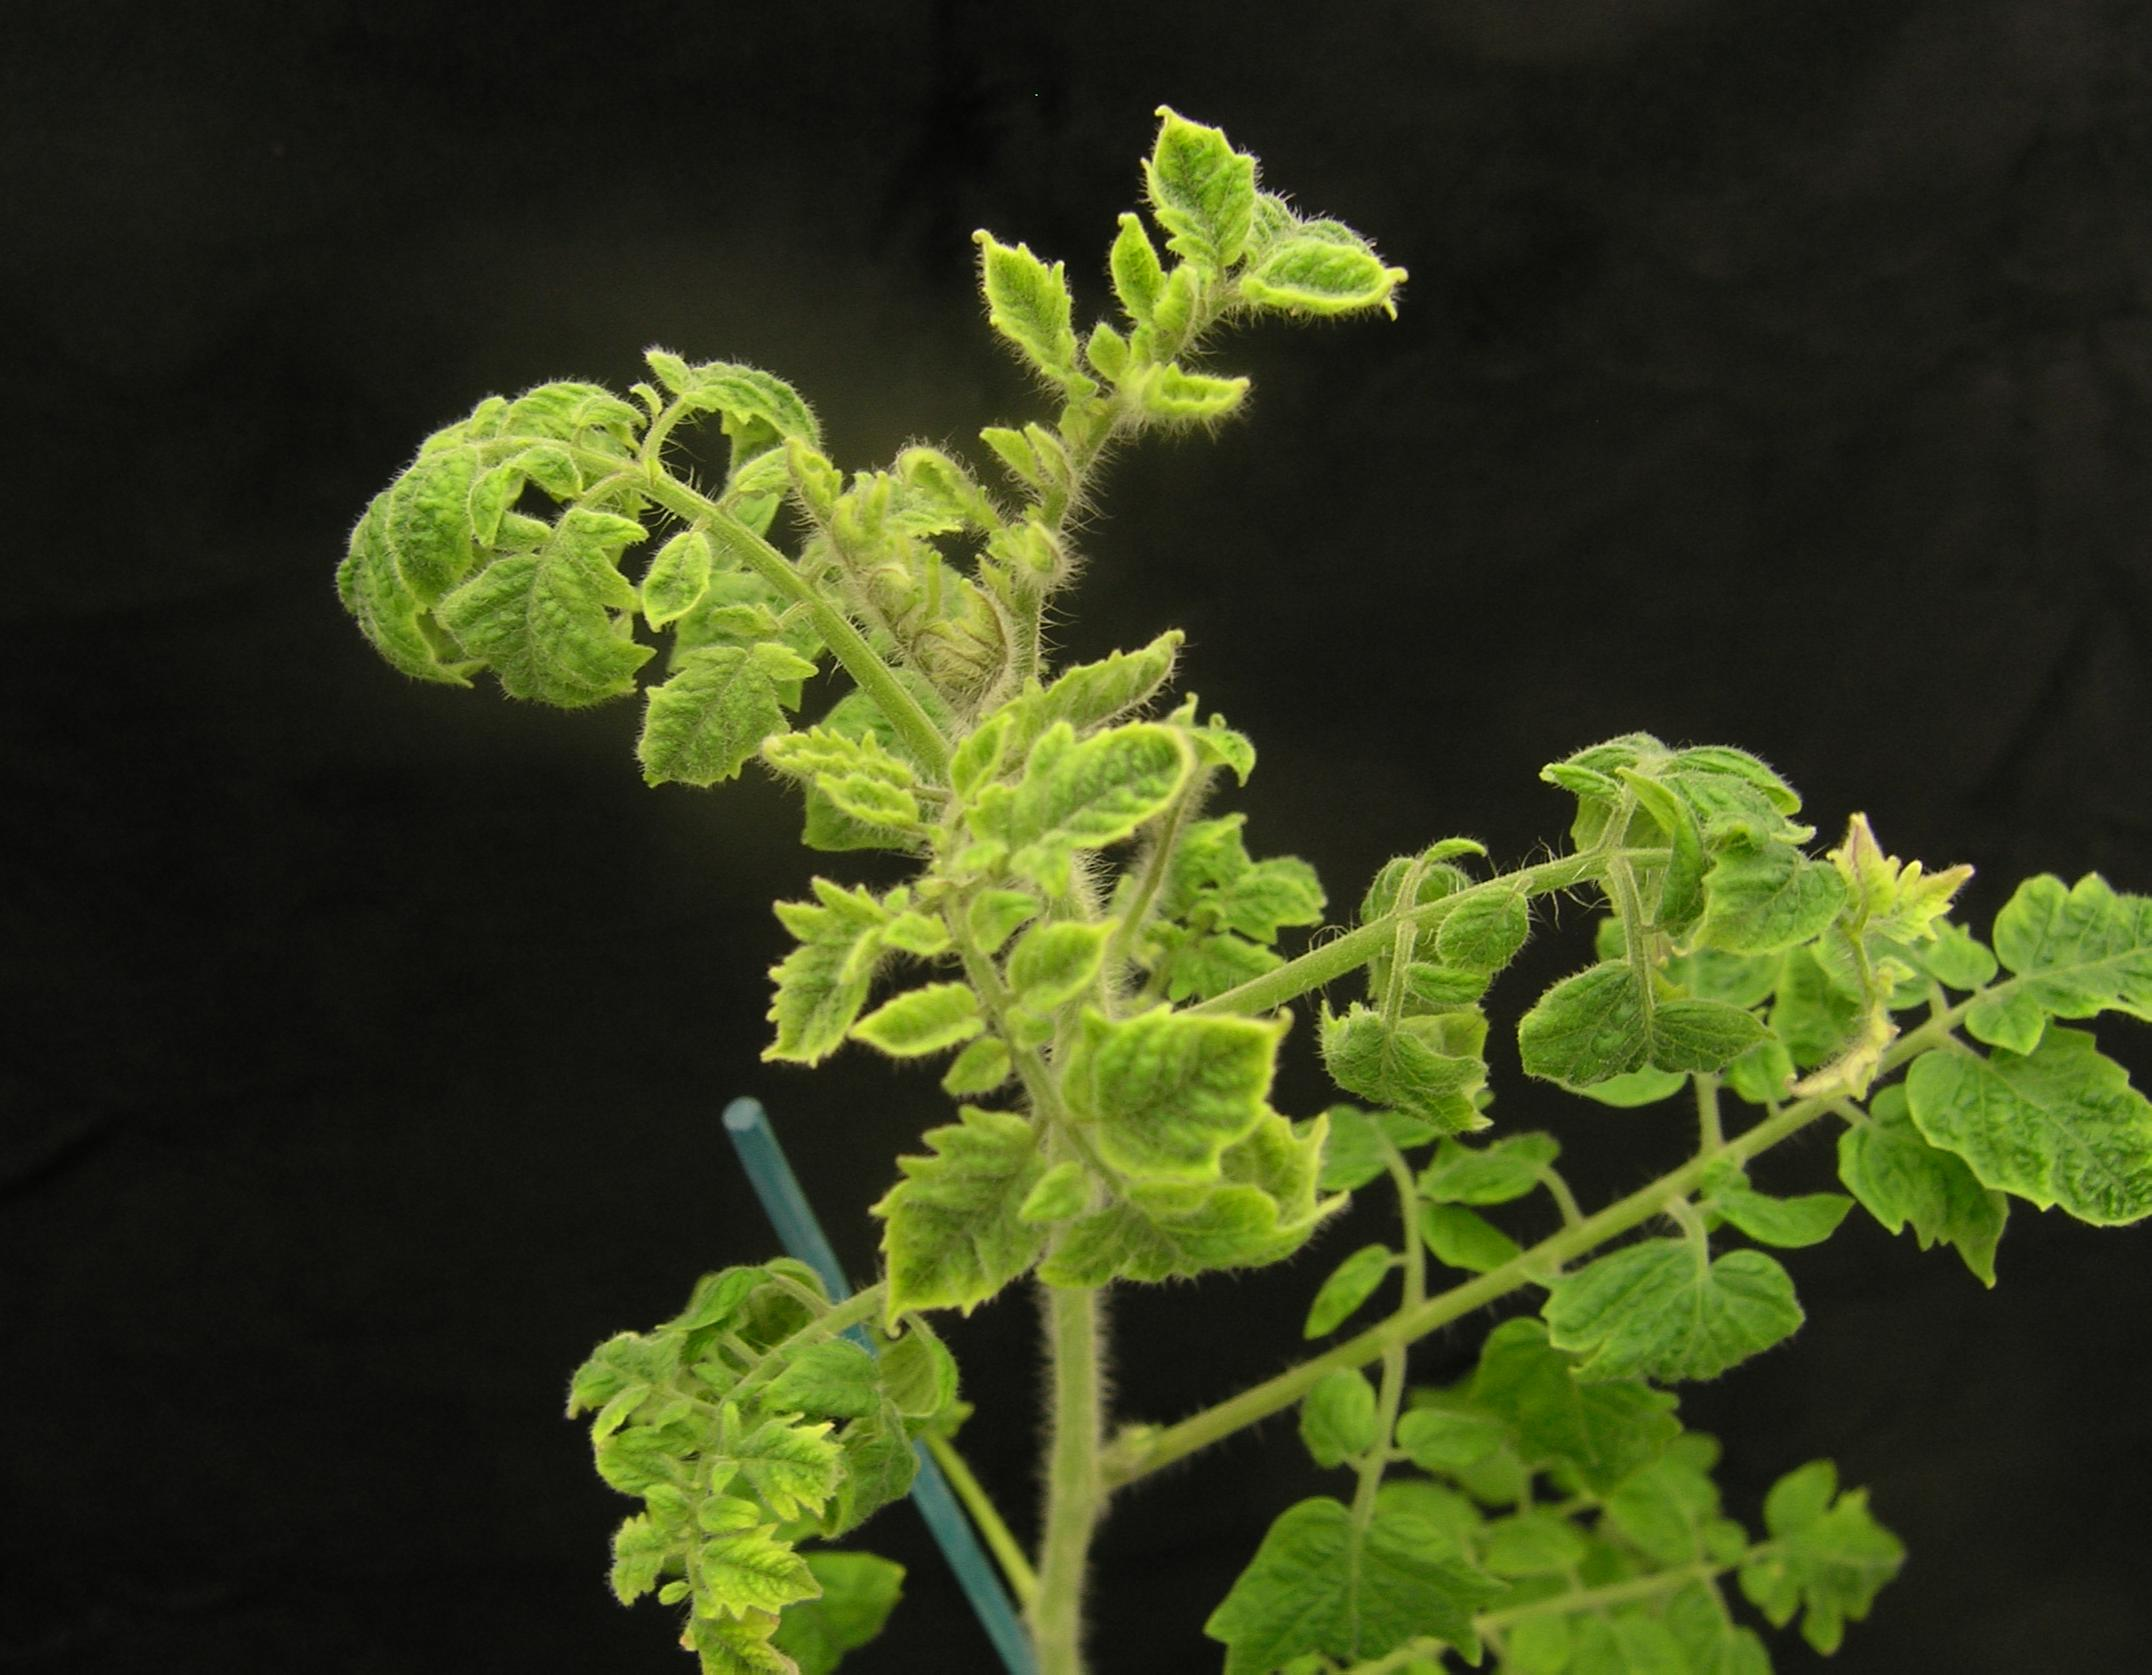Tomato leaf yellow virus: (1060, 978, 1326, 1217), (1880, 1029, 2152, 1224), (859, 1107, 1043, 1348), (1976, 852, 2152, 1072), (608, 620, 804, 803), (983, 713, 1200, 863), (510, 491, 650, 706), (742, 889, 907, 1071), (1125, 61, 1259, 281), (1247, 222, 1432, 327), (699, 1394, 852, 1506), (500, 356, 636, 461), (678, 1575, 819, 1675), (690, 1527, 840, 1605)
